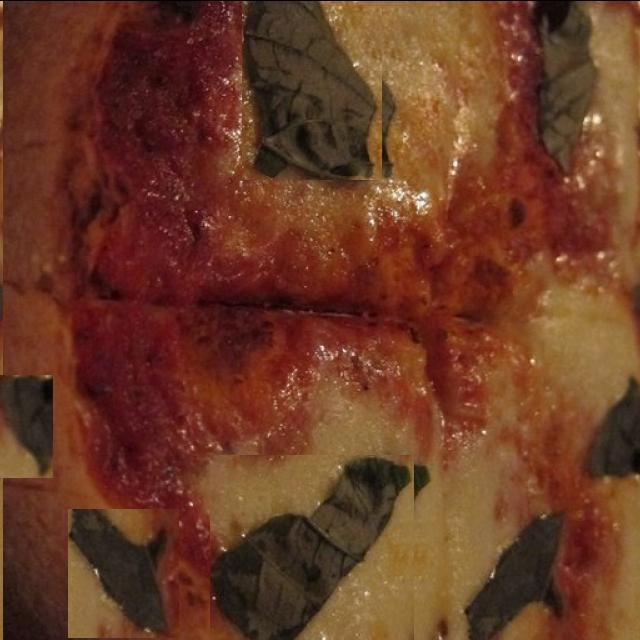basil: (210, 454, 414, 640), (242, 0, 382, 179), (68, 508, 179, 637), (0, 374, 53, 477)
pizza: (3, 0, 640, 640)
